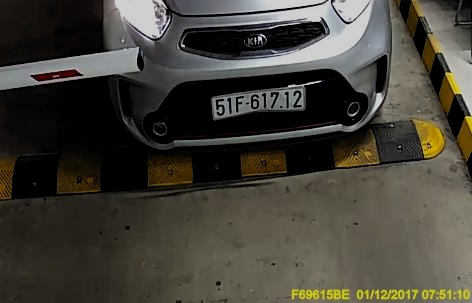plate: (211, 86, 310, 118)
